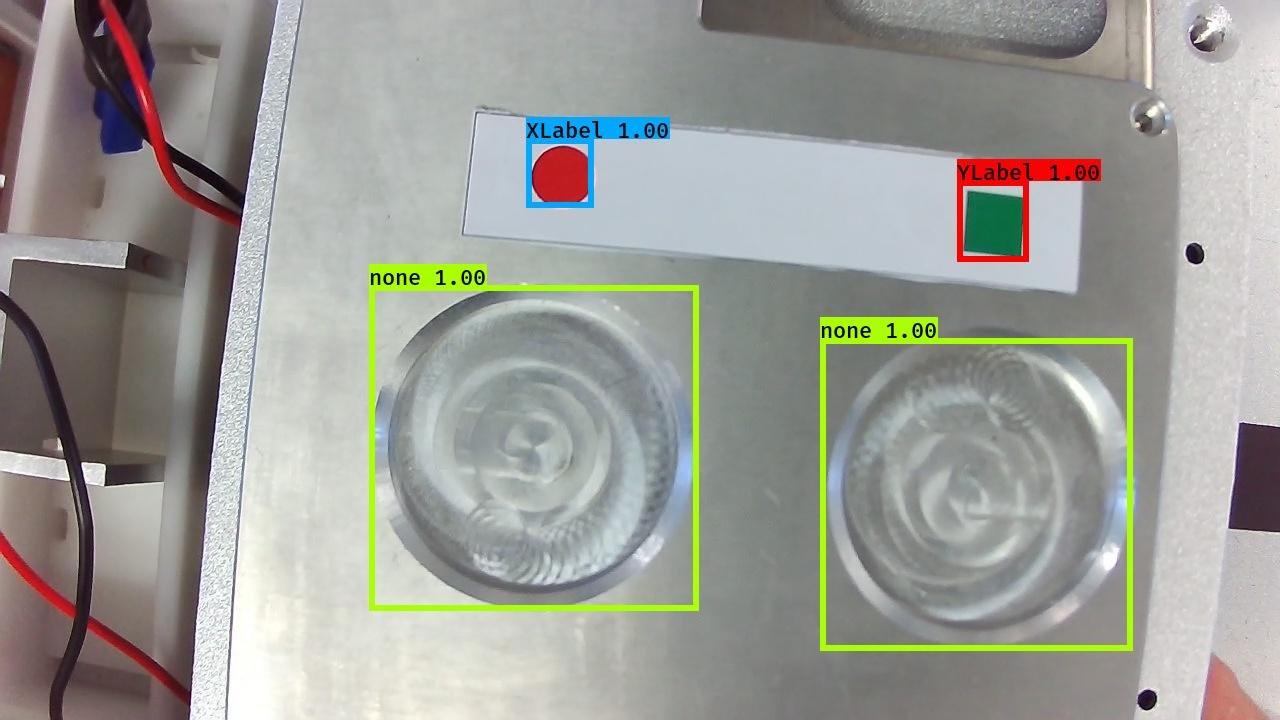XLabel: (529, 142, 595, 208)
YLabel: (959, 186, 1032, 259)
none: (363, 280, 702, 615), (817, 316, 1143, 645)
